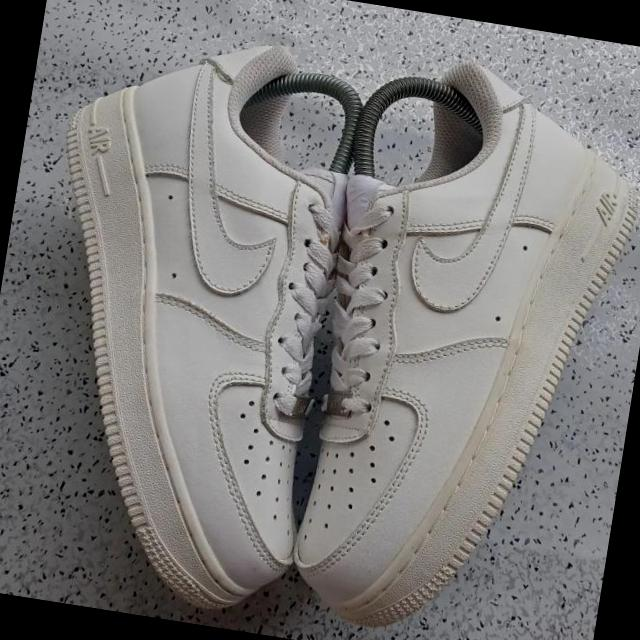nike_original_airforce: (0, 15, 379, 624), (271, 43, 640, 640)
